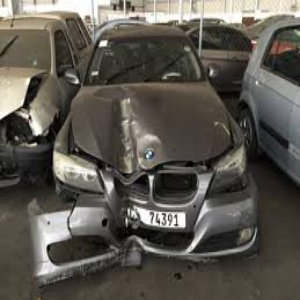bonnet: (78, 86, 209, 165)
bumper: (12, 187, 136, 284)
